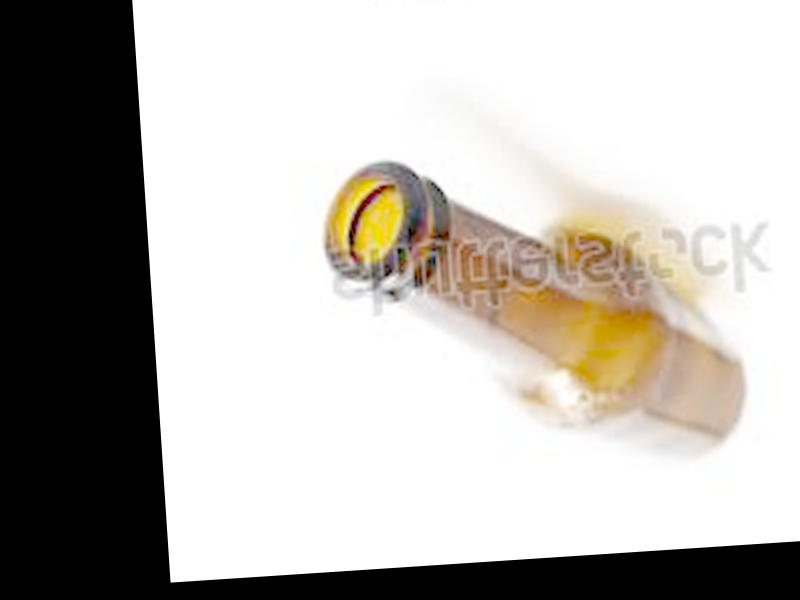Beer: (316, 135, 751, 481)
